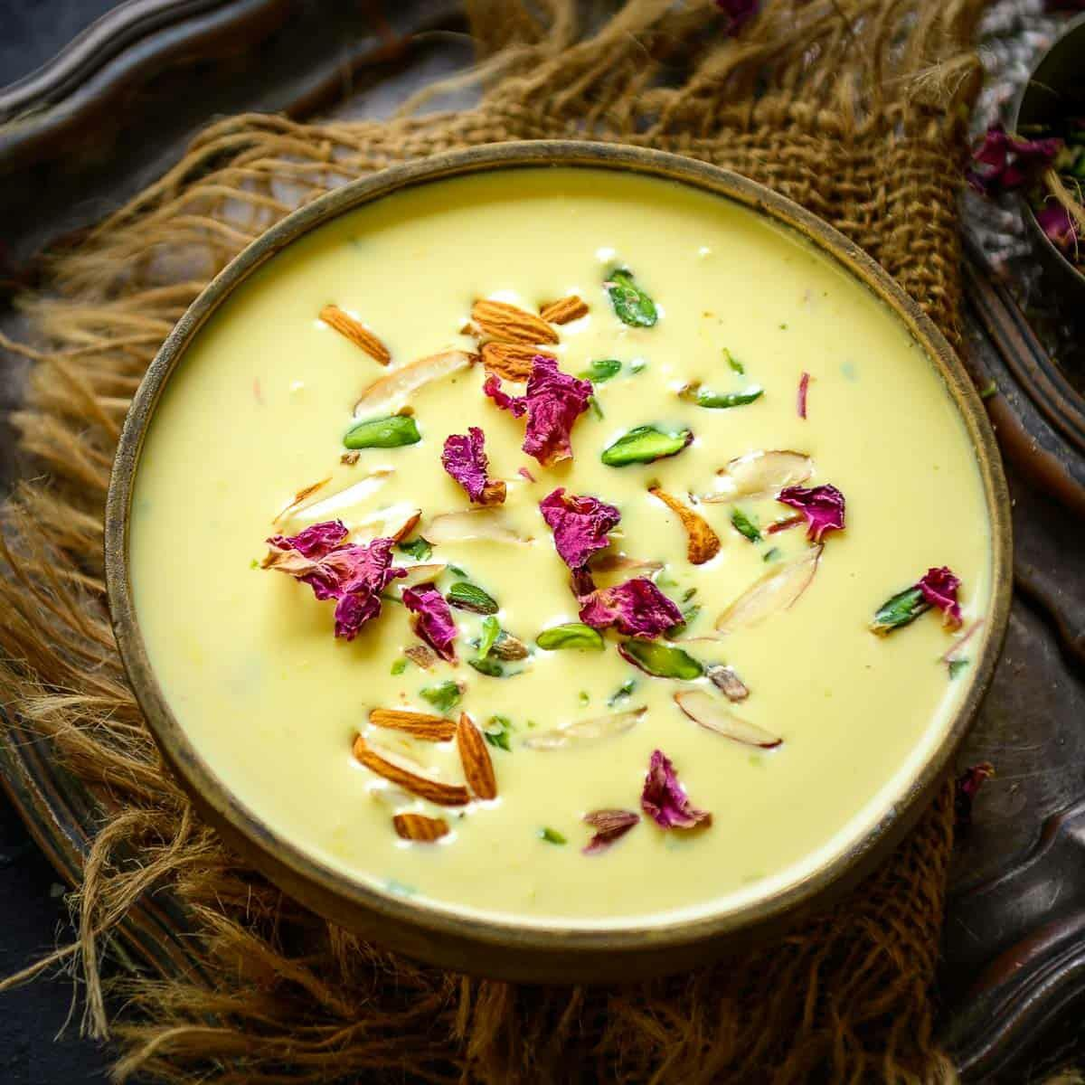Kheer: (127, 176, 989, 934)
